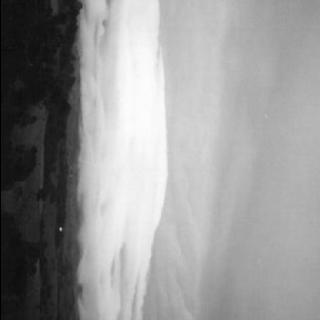Stratus: (72, 0, 170, 320)
